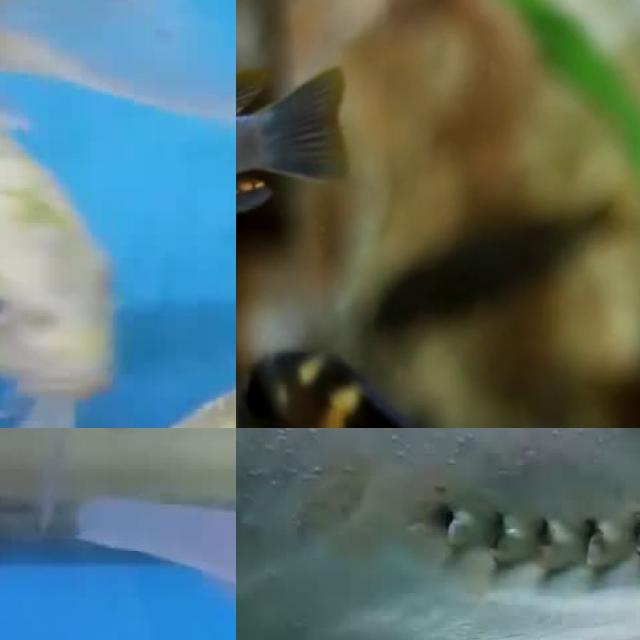fish: (0, 0, 236, 428), (236, 332, 640, 428), (96, 494, 236, 640)
